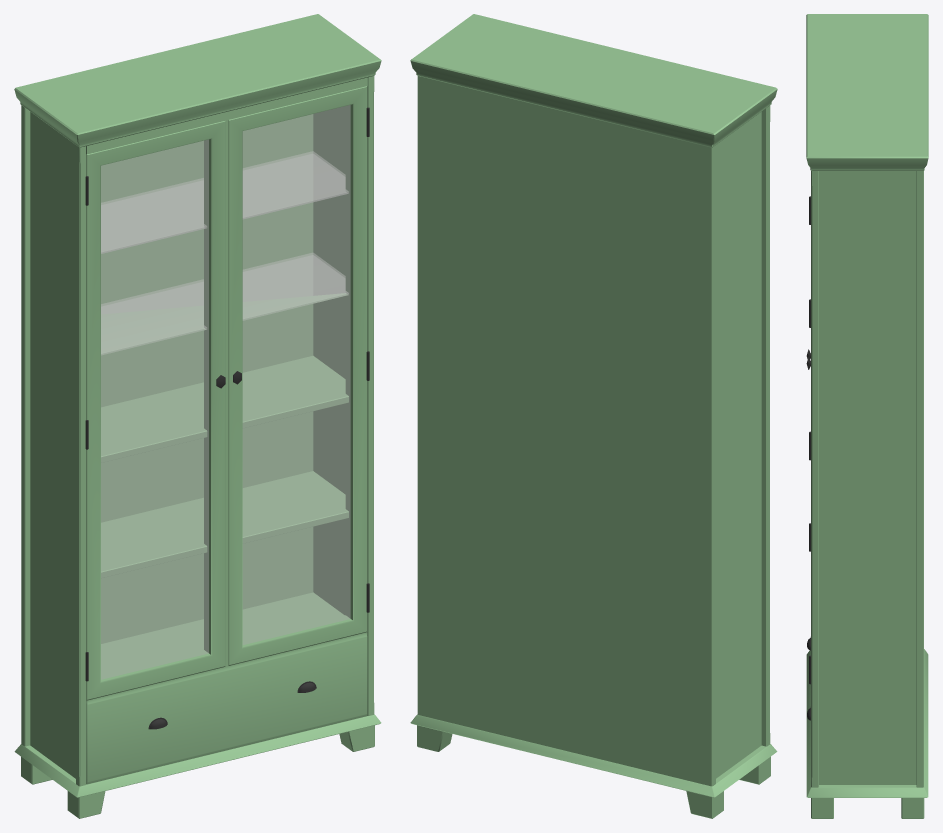
File: MarkorGlassdoorCabinet.FBX
The picture shows the model from 3 angles, left to right: view 1: azimuth 30°, elevation 25°; view 2: azimuth 150°, elevation 25°; view 3: azimuth 270°, elevation 25°; orthographic projection. The views are drawn at different scales.
Visible parts, largest first — view 1: MarkorGlassdoorCabinet; view 2: MarkorGlassdoorCabinet; view 3: MarkorGlassdoorCabinet.
Boxes of the visible parts, box(x1,y1,x2,y2) form: MarkorGlassdoorCabinet: box(14, 14, 381, 818); MarkorGlassdoorCabinet: box(410, 14, 777, 818); MarkorGlassdoorCabinet: box(806, 14, 928, 818).
Size of the model in its own units: 89 by 32 by 192.
